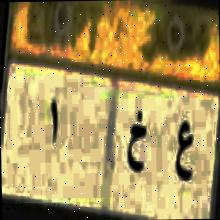1: (48, 86, 62, 149)
ain: (172, 108, 194, 188)
khaa: (124, 102, 148, 178)
